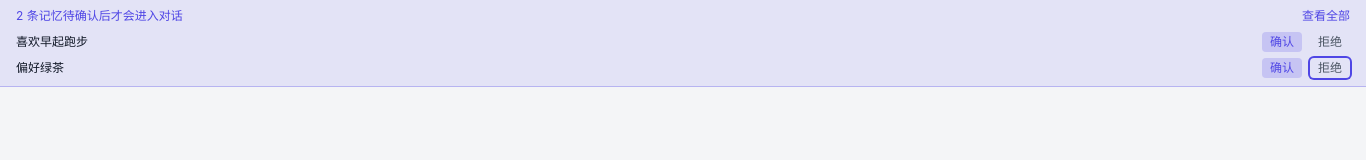
Scenario: ProposedMemoryBanner › moves focus to the previous reject when the last row leaves
Click the button "拒绝" in the row of "偏好绿茶".
click(1330, 68)  # box [1310,58,1350,78]
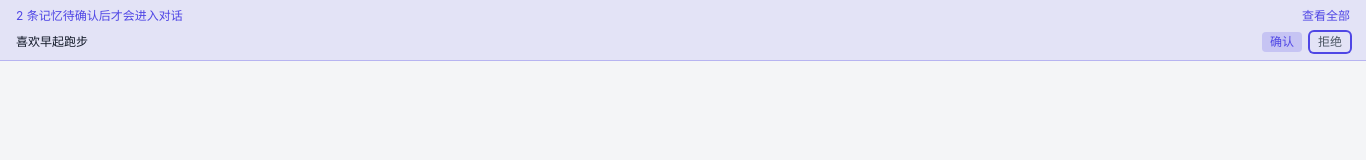
Expected: the text "喜欢早起跑步" is shown, [16,34,88,49]
Expected: the text "偏好绿茶" is gone
